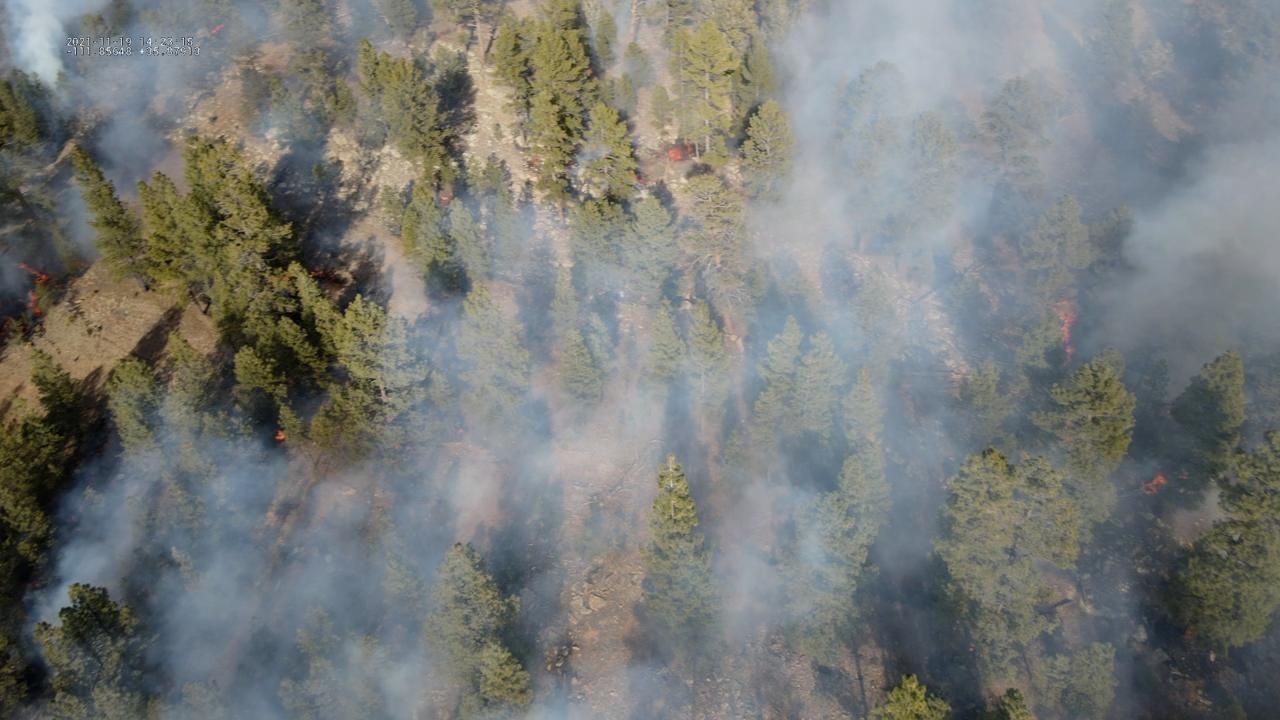fire: (1043, 294, 1078, 359), (14, 261, 50, 318), (1132, 472, 1167, 494), (665, 145, 695, 161), (633, 173, 652, 188), (209, 22, 226, 35), (305, 270, 326, 280), (273, 430, 287, 441), (439, 193, 450, 203)
smoke: (0, 0, 1280, 720)
